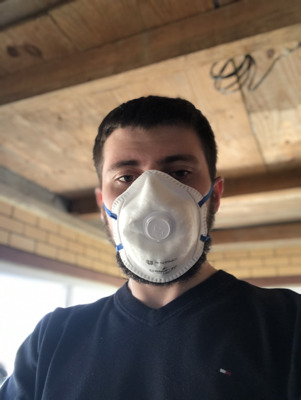with_mask: (104, 144, 213, 285)
